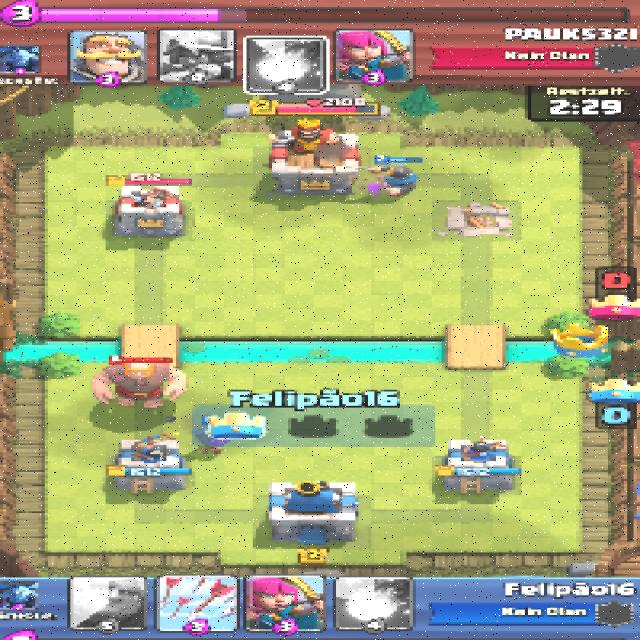Enemy-Giant: (89, 362, 188, 409)
Player-Knight: (362, 164, 418, 194)
Player-Musketeer: (189, 426, 232, 455)
